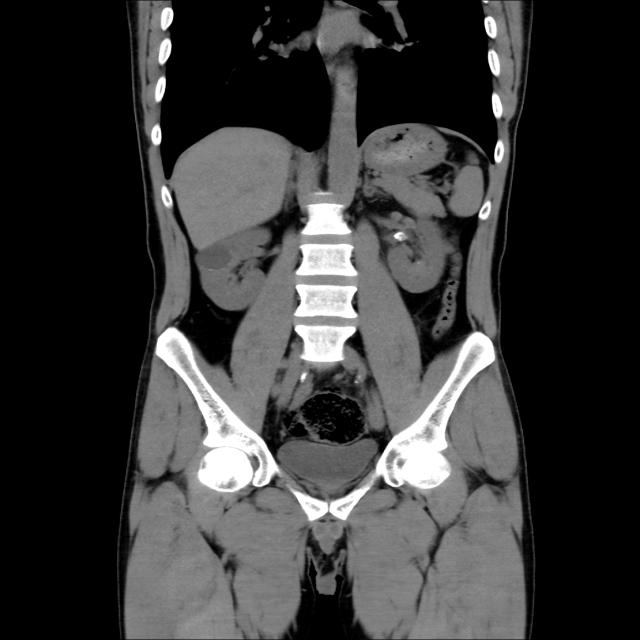kidneystone: (394, 231, 407, 241)
